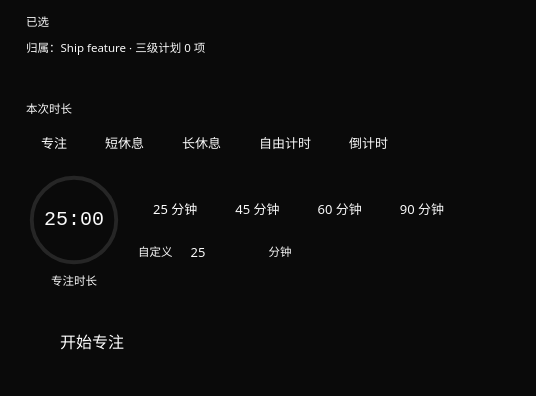
it: SessionLauncher 模式切换（双体系兼容） › 从休息切回工作：恢复 work 默认时长与 work 预设
This screenshot has width=536, height=396.
Click the button "短休息" at (124, 144), box [90,126,159,160]
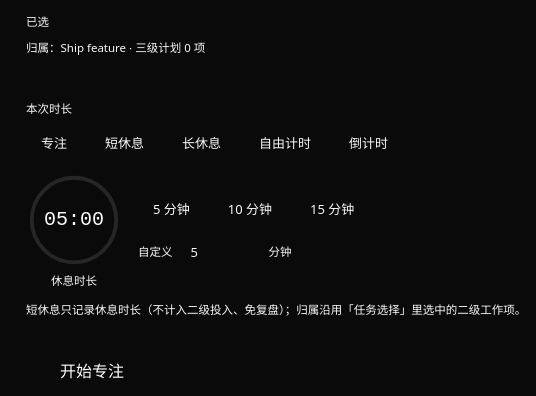
Click the button "专注" at (54, 144), box [26,126,82,160]
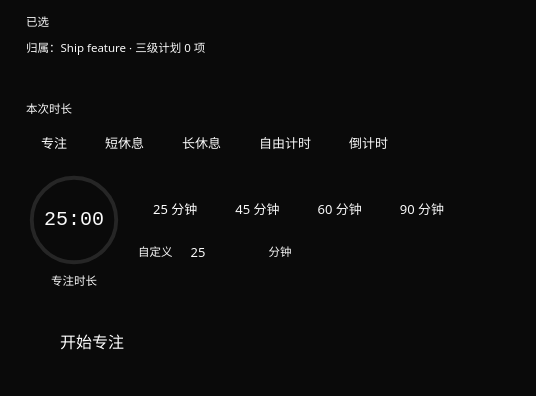
Expected: the number field named "Planned minutes" holds "25", [180,235,260,271]
Expected: the button "90 分钟" is shown, [385,193,459,227]
